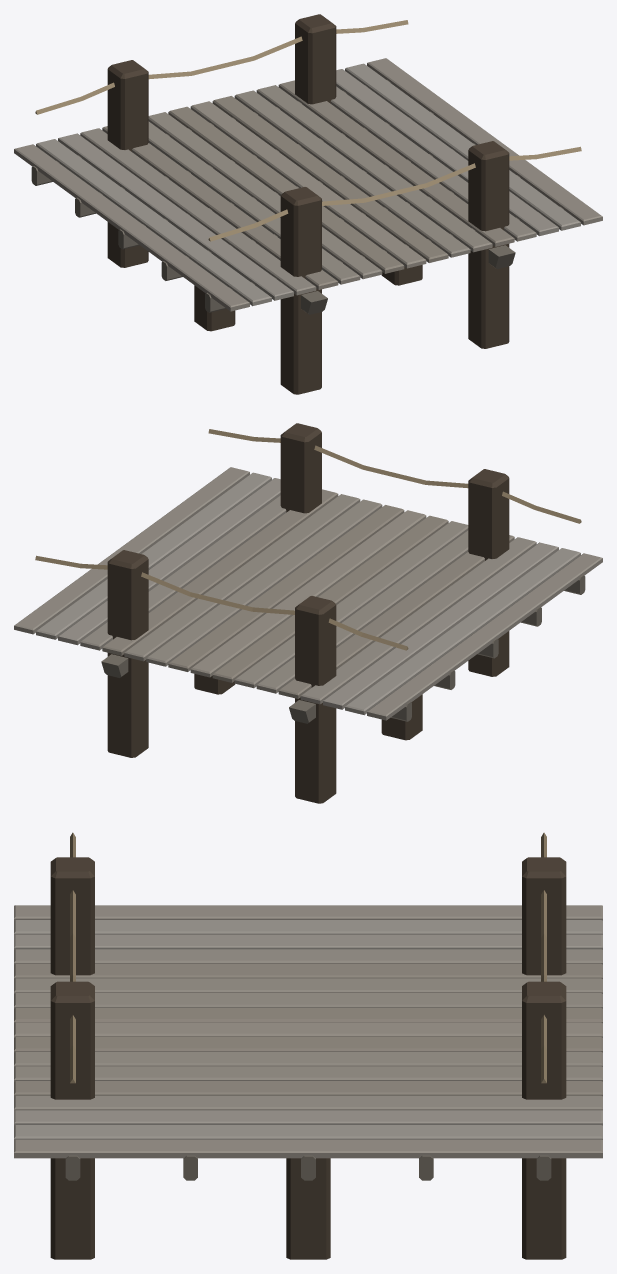
The model's file is boardwalk-deck-run-c1f678.glb.
The picture shows the model from 3 angles, top to bottom: view 1: azimuth 30°, elevation 25°; view 2: azimuth 150°, elevation 25°; view 3: azimuth 270°, elevation 25°; orthographic projection. The views are drawn at different scales.
Parts seen in each view (by area): view 1: boardwalk-deck-body; view 2: boardwalk-deck-body; view 3: boardwalk-deck-body.
Boxes of the visible parts, x1,y1,x2,y2 form: boardwalk-deck-body: (14,14,602,394); boardwalk-deck-body: (14,423,602,803); boardwalk-deck-body: (14,832,602,1259).
Bounding box in the file's own units: 4 × 1.96 × 4.
